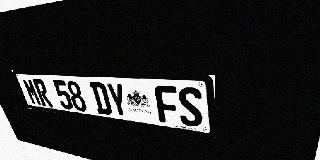5: (52, 80, 75, 110)
8: (65, 81, 88, 112)
D: (89, 82, 113, 116)
F: (154, 85, 180, 125)
M: (21, 78, 42, 106)
R: (32, 79, 53, 107)
S: (177, 86, 203, 128)
Y: (105, 83, 130, 118)
